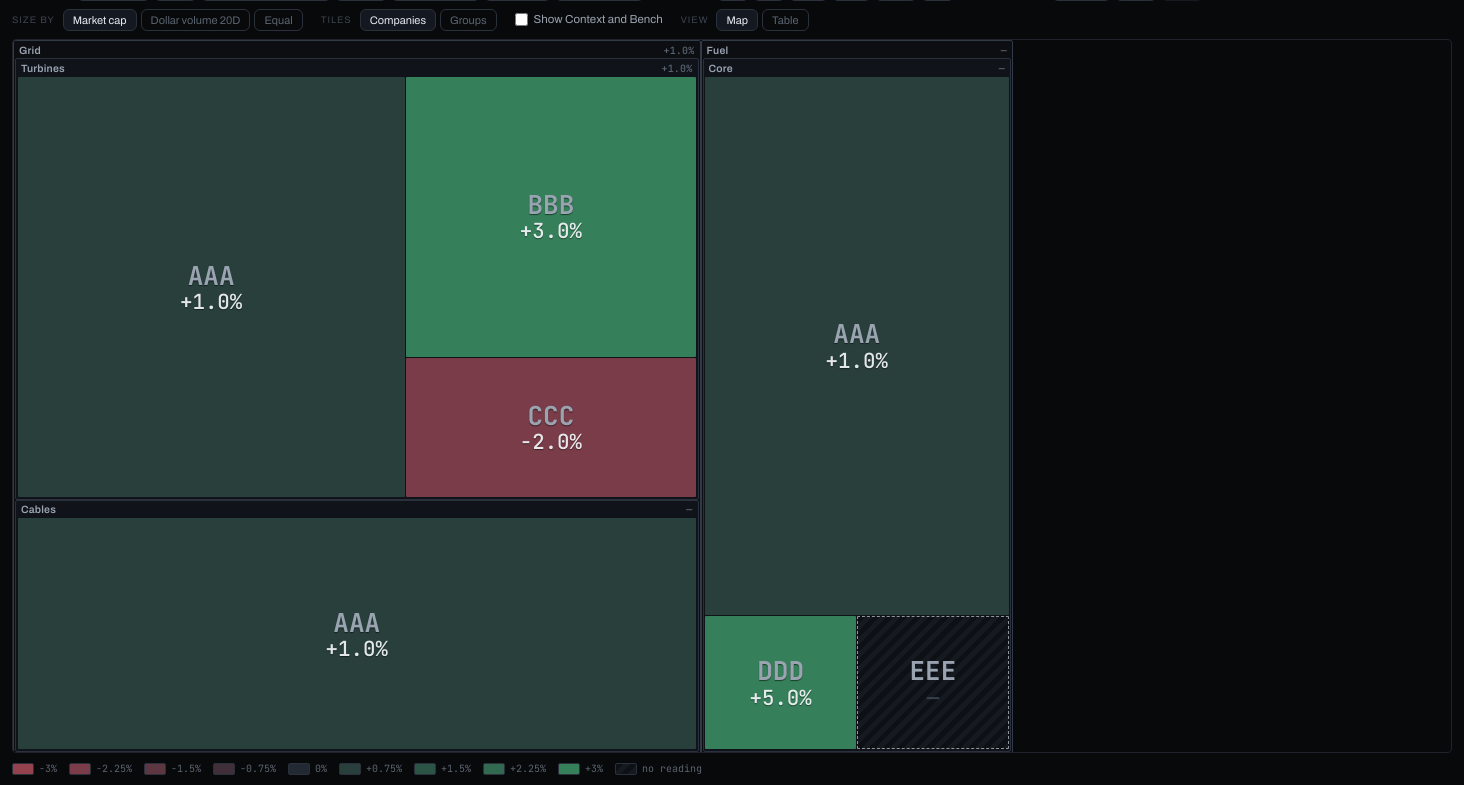
Scenario: the controls › Show Context and Bench adds their own link box
Click the checkbox labelled "Show Context and Bench" at {"x": 521, "y": 20}, box [515,13,528,26]
(page scrolled)
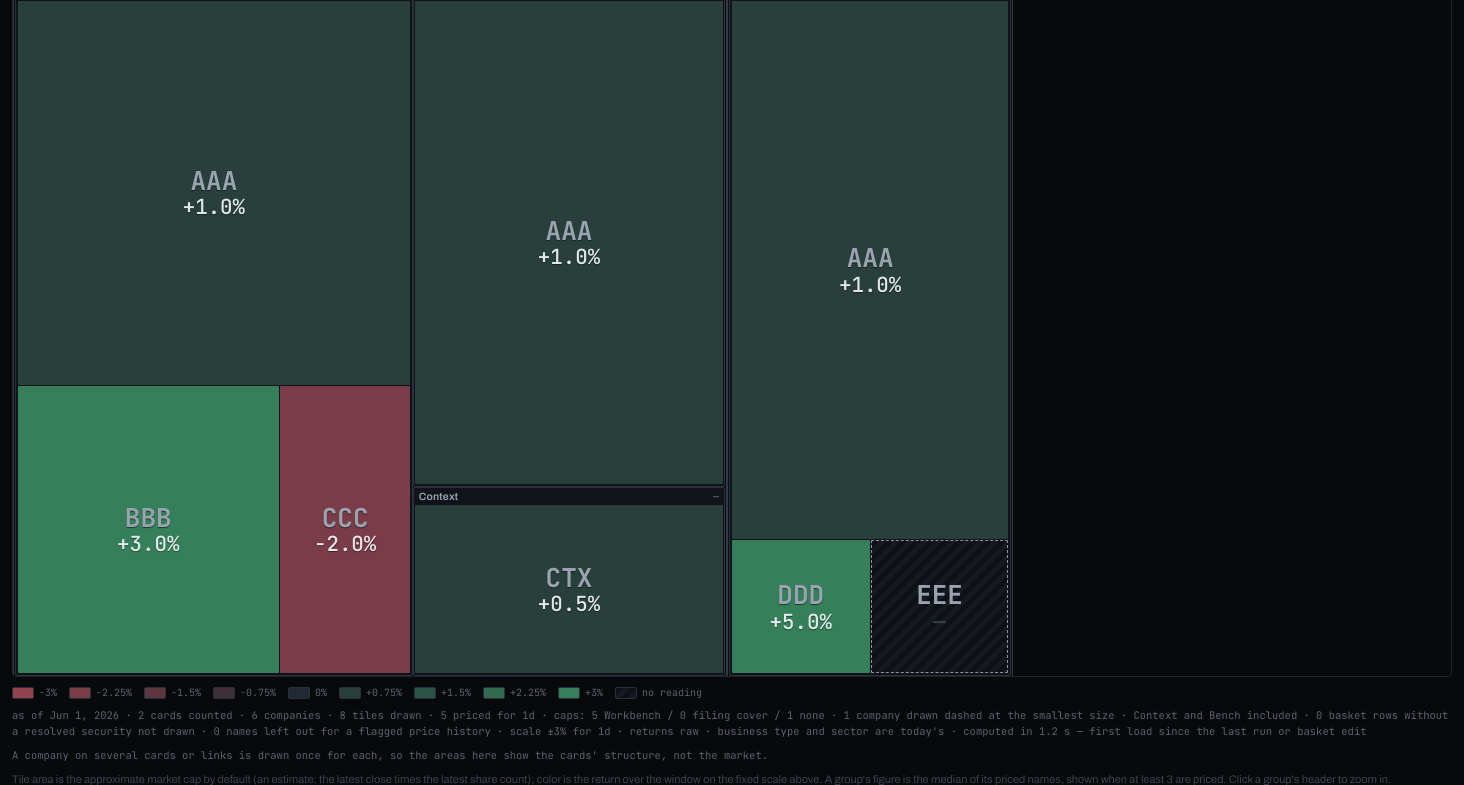
Result: the text "Context and Bench included" is shown at [12,708,1448,738]
